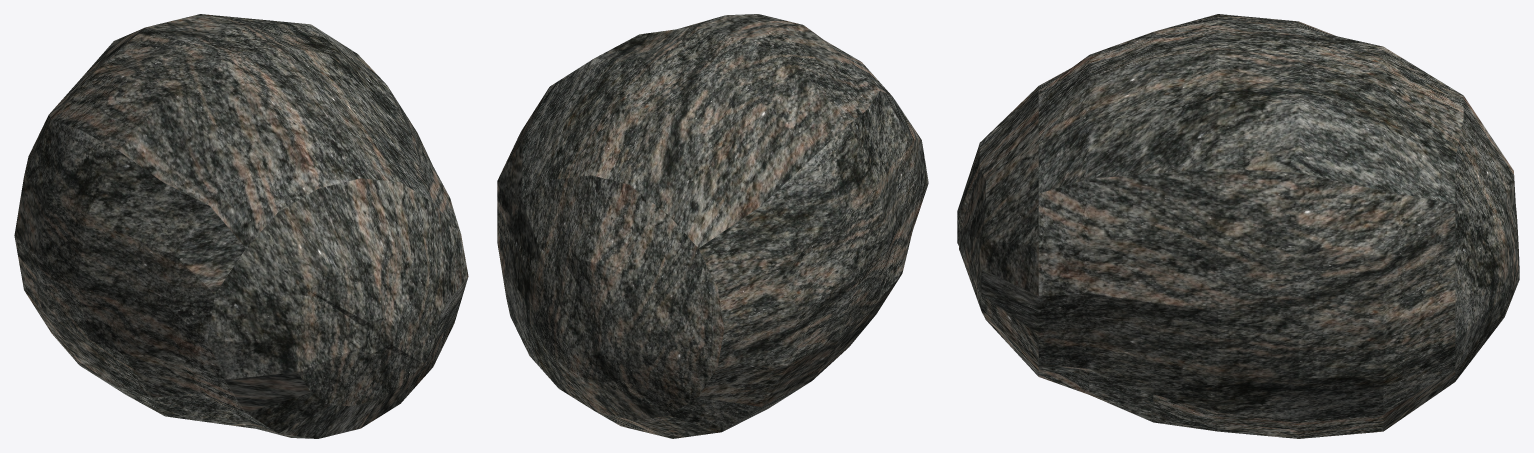
Rendered from GraniteRocks.obj.
The picture shows the model from 3 angles, left to right: view 1: azimuth 30°, elevation 25°; view 2: azimuth 150°, elevation 25°; view 3: azimuth 270°, elevation 25°; orthographic projection. The views are drawn at different scales.
Parts seen in each view (by area): view 1: Cylinder002; view 2: Cylinder002; view 3: Cylinder002.
Boxes of the visible parts, box(x1,y1,x2,y2) form: Cylinder002: box(14, 14, 468, 438); Cylinder002: box(497, 14, 928, 438); Cylinder002: box(957, 14, 1519, 438).
Size of the model in its own units: 16.36 by 16.43 by 21.94.
Materials: 1 (1 with a texture image).
